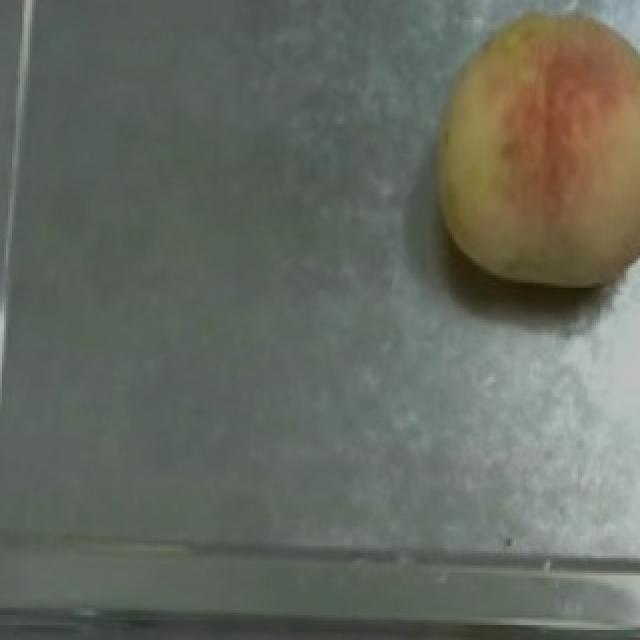Fruit: (396, 0, 640, 308)
